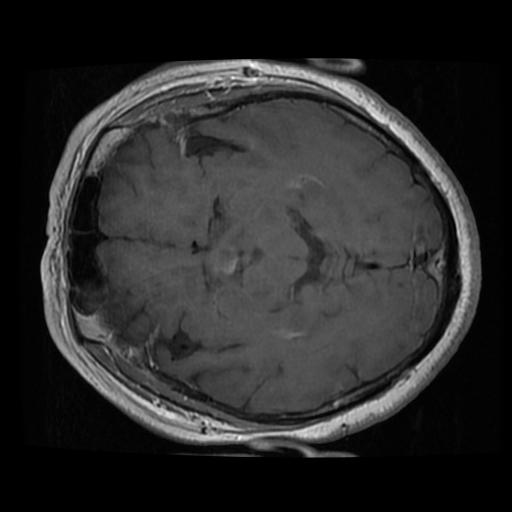pituitary tumour: (204, 245, 240, 278)
